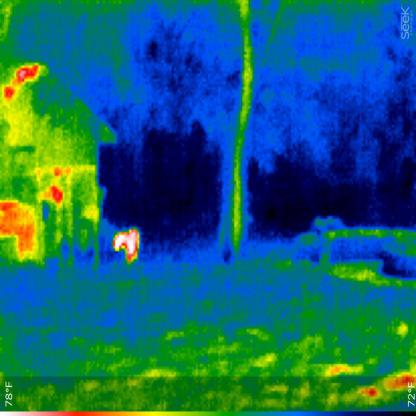dog: (110, 224, 142, 268)
